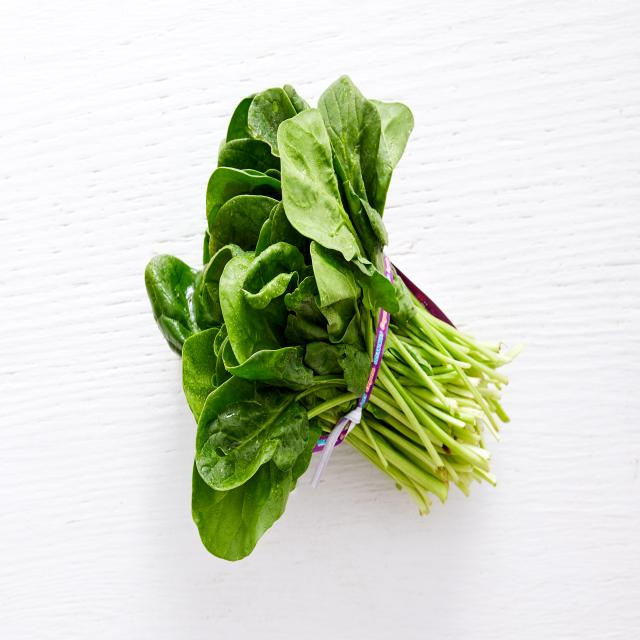spinach: (132, 56, 530, 583)
